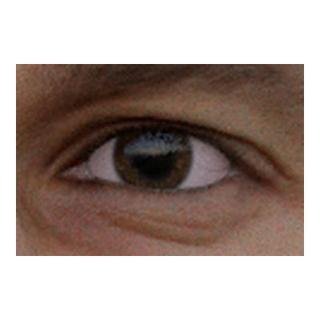pupil: (133, 137, 172, 175)
